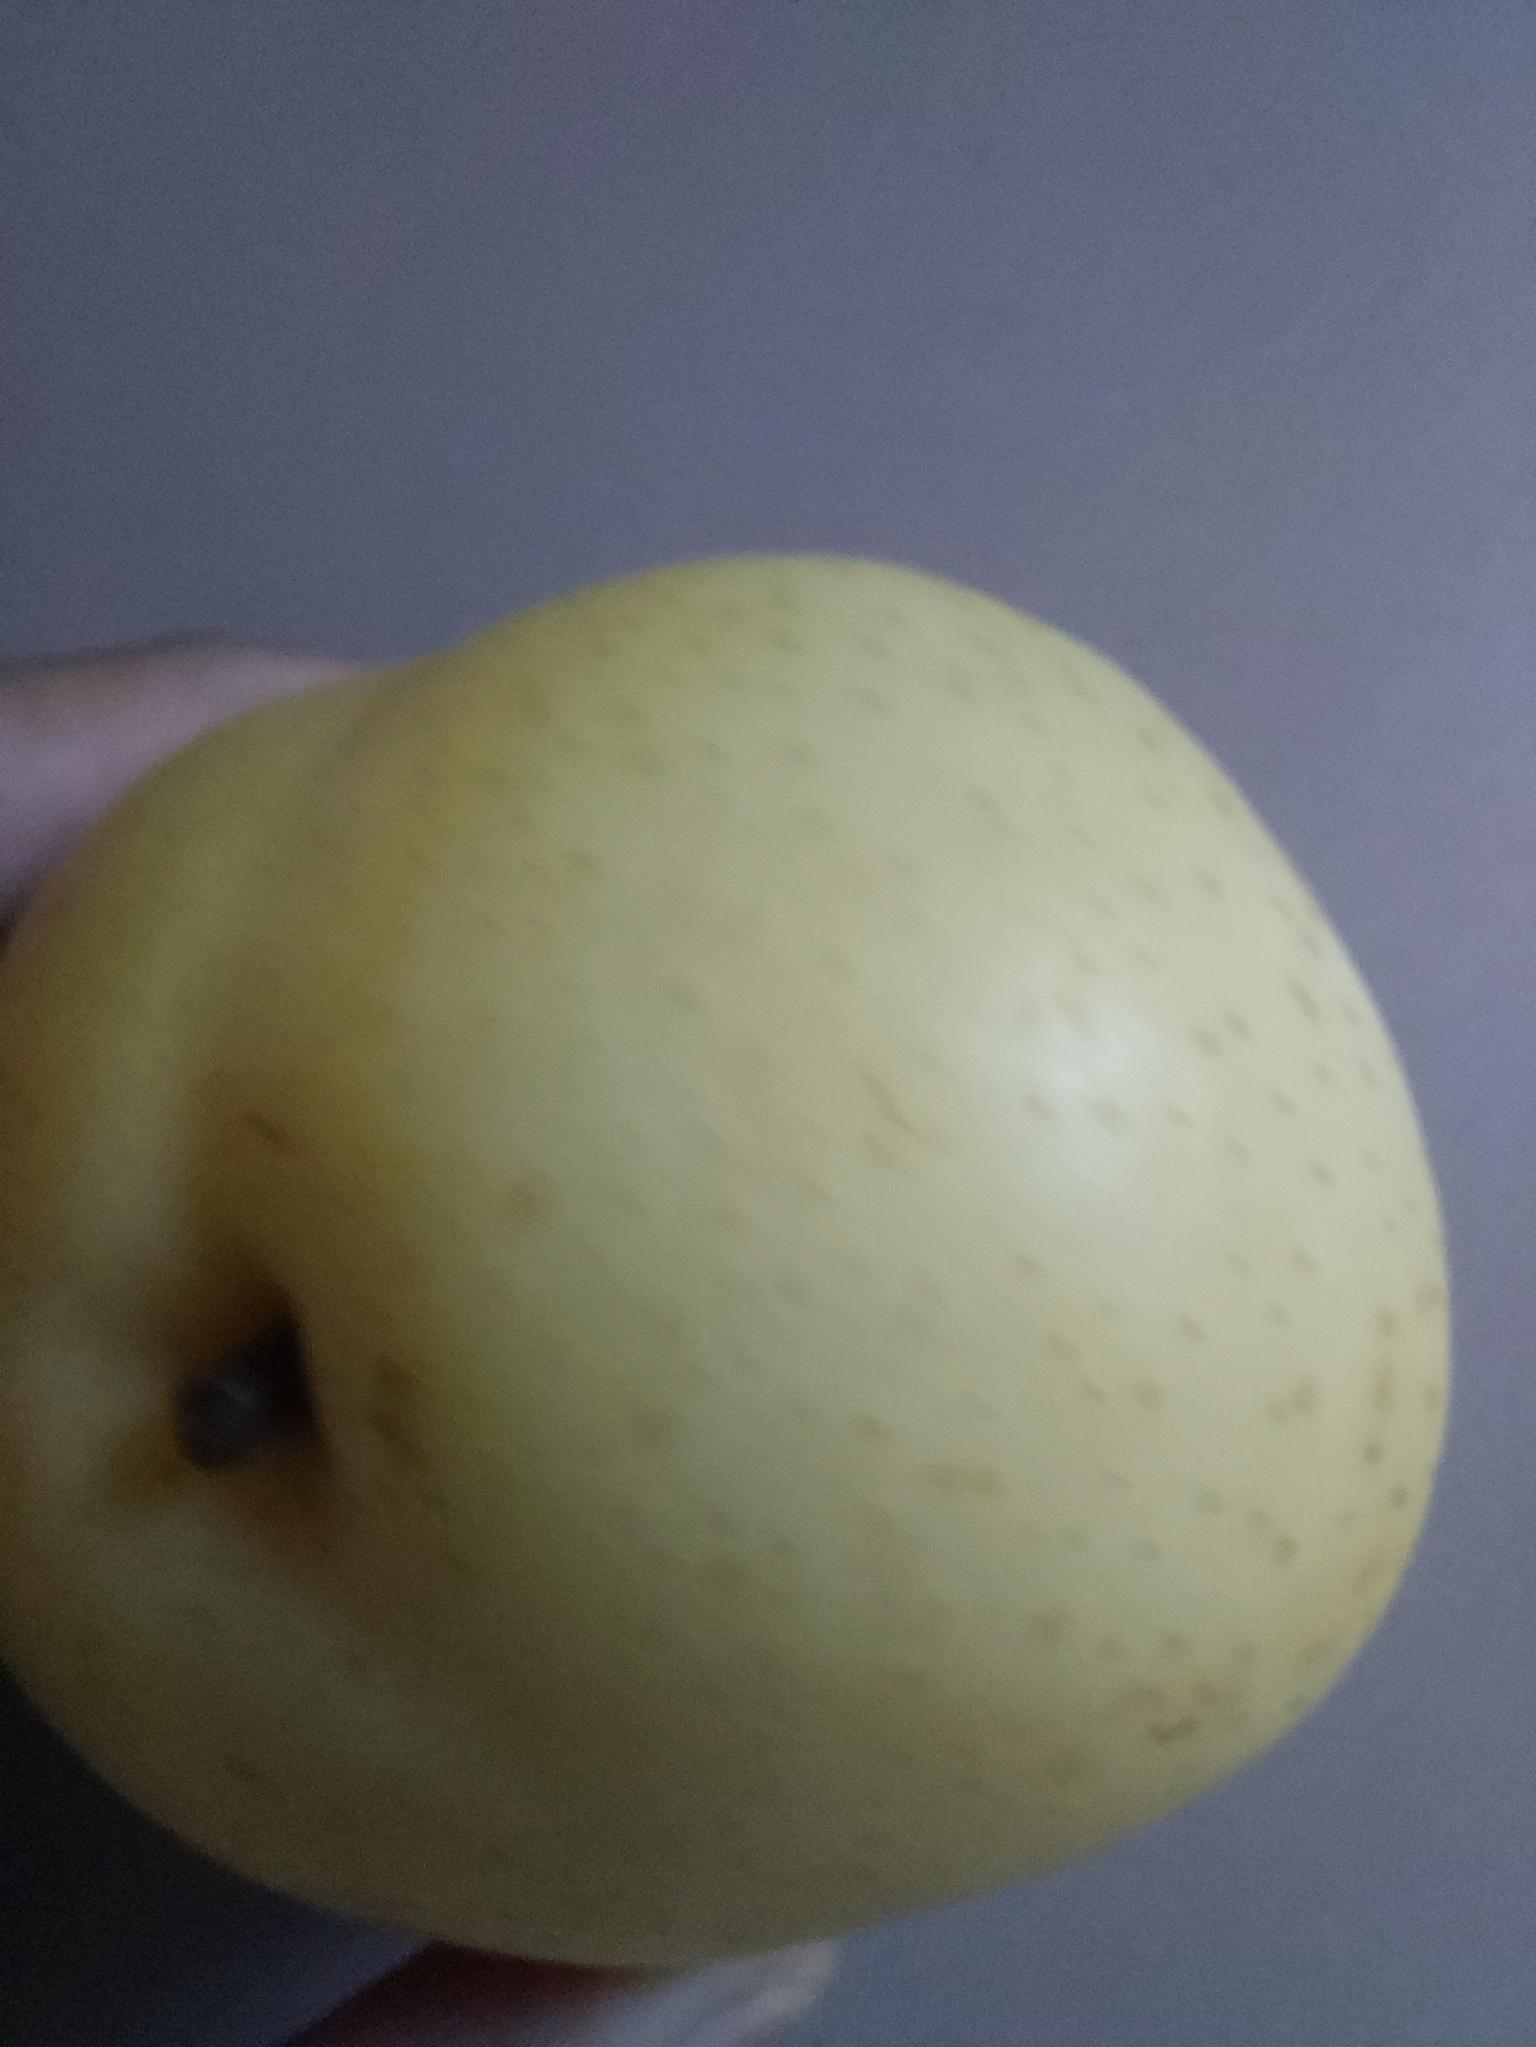Good Pear: (0, 558, 1470, 1984)
